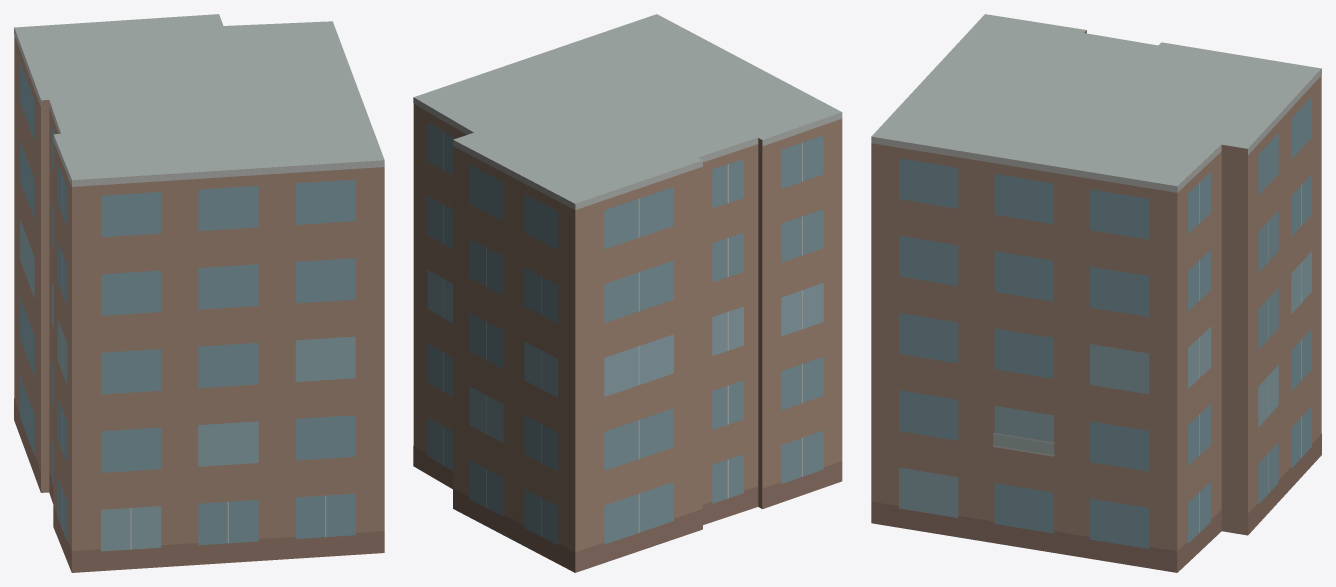
File: survey-upis-32868118.glb
The picture shows the model from 3 angles, left to right: view 1: azimuth 30°, elevation 25°; view 2: azimuth 150°, elevation 25°; view 3: azimuth 270°, elevation 25°; orthographic projection. The views are drawn at different scales.
Visible parts, largest first — view 1: survey-upis-32868118.tmp; view 2: survey-upis-32868118.tmp; view 3: survey-upis-32868118.tmp.
Part boxes in pixels (box(x1,y1,x2,y2)): survey-upis-32868118.tmp: box(14, 14, 384, 572); survey-upis-32868118.tmp: box(413, 14, 842, 572); survey-upis-32868118.tmp: box(871, 14, 1321, 572).
Bounding box in the file's own units: 13.68 × 14.3 × 15.11.
